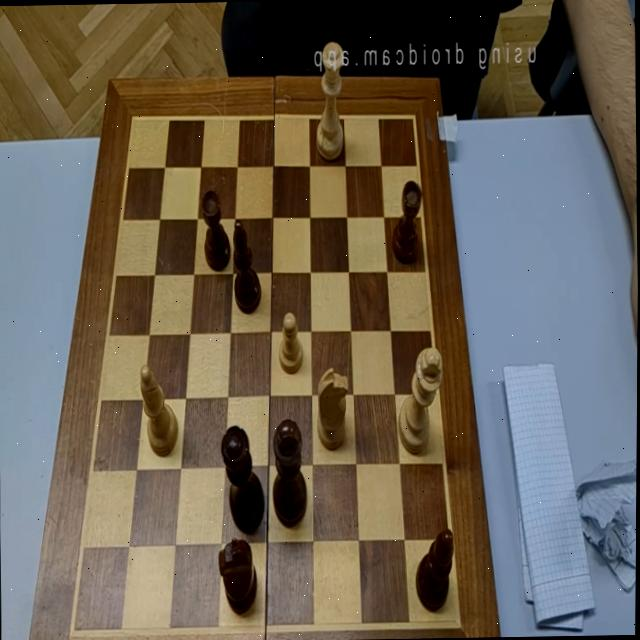black_bishop: (415, 529, 456, 611), (232, 218, 262, 314)
black_king: (271, 418, 308, 528)
black_knight: (218, 536, 259, 614)
black_queen: (221, 424, 266, 535)
black_rook: (390, 180, 423, 263), (200, 188, 231, 272)
white_bishop: (140, 364, 179, 457)
white_king: (397, 346, 444, 454)
white_knight: (316, 366, 349, 451)
white_pawn: (278, 312, 304, 374)
white_queen: (314, 41, 344, 160)
